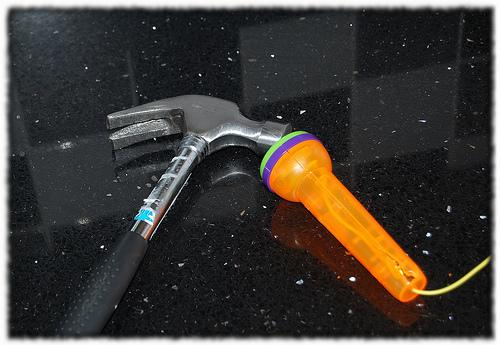hammer: (48, 91, 293, 338)
